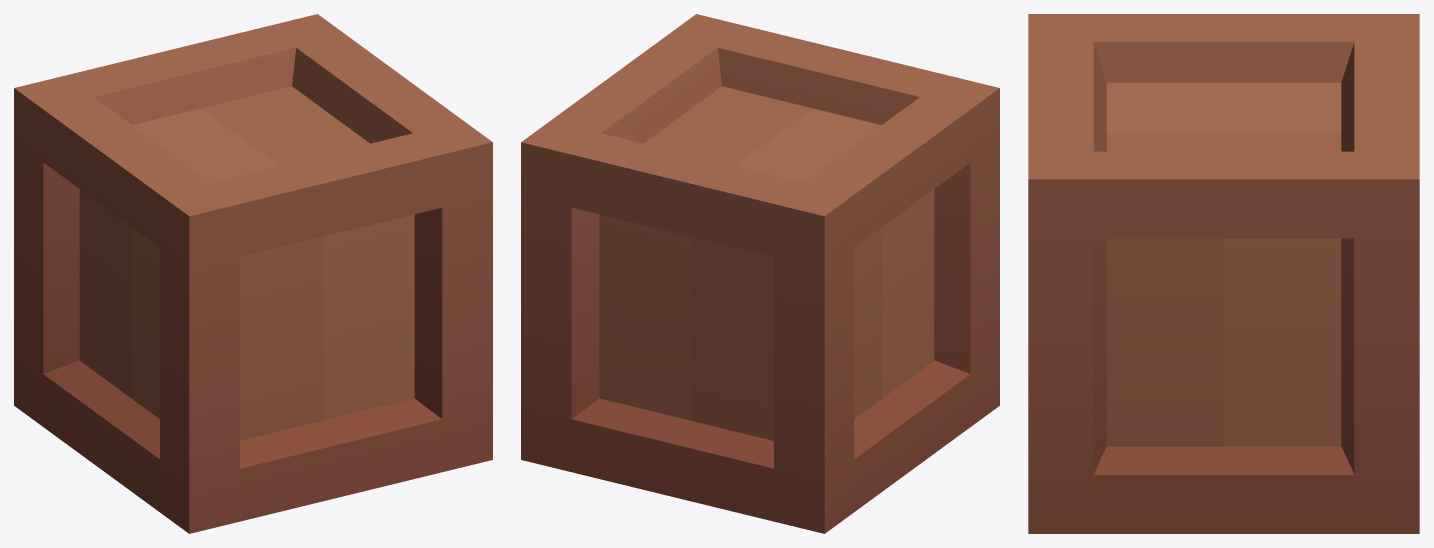
Rendered from crate_A_big.glb.
3 views of the same model, side by side, from view 1: azimuth 30°, elevation 25°; view 2: azimuth 150°, elevation 25°; view 3: azimuth 270°, elevation 25° (orthographic). The views are drawn at different scales.
Visible parts, largest first — view 1: crate_A_big; view 2: crate_A_big; view 3: crate_A_big.
Part boxes in pixels (x1,y1,x2,y2): crate_A_big: [14, 14, 492, 533]; crate_A_big: [521, 14, 999, 533]; crate_A_big: [1028, 14, 1419, 533].
Bounding box in the file's own units: 0.21 × 0.21 × 0.21.
Materials: 1 (1 with a texture image).
